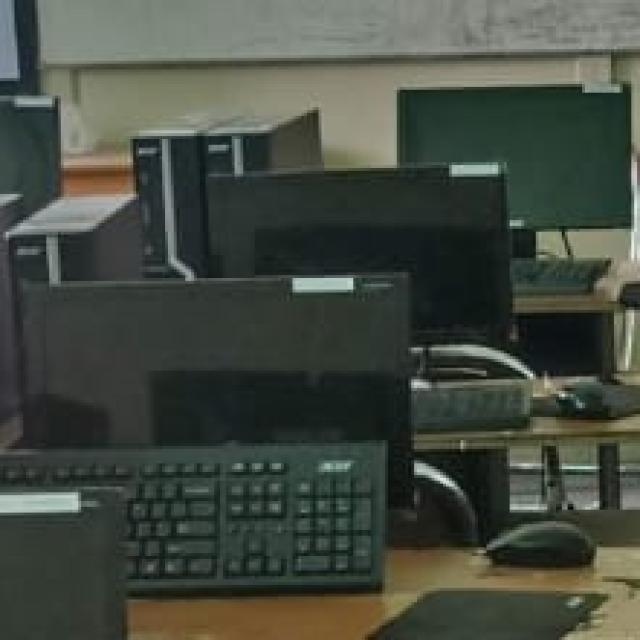offscreen: (24, 278, 408, 446), (208, 168, 510, 347), (400, 90, 631, 228)
